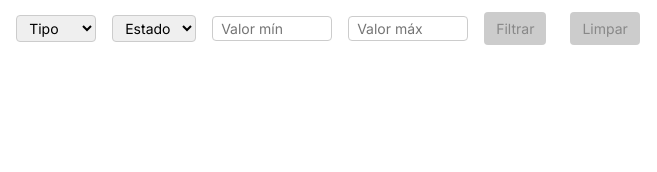
Scenario: DespesasFilters › limpa todos os campos ao clicar em Limpar
This screenshot has width=657, height=172.
Type "200" into the number field with placeholder "Valor mín". click: point(272, 28)
box: [212,16,332,41]
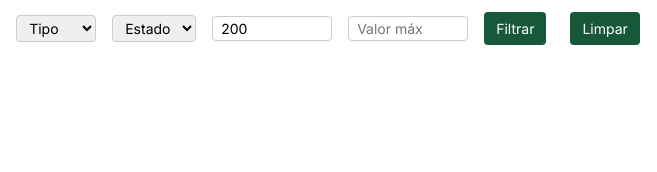
Select "Tipo 1" in the 1st dropdown showing "Tipo". click: point(56, 28)
box: [16,15,96,42]
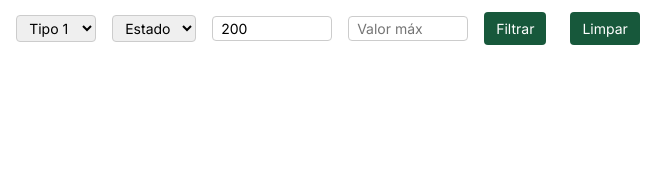
Select "SP" in the 2nd dropdown showing "Estado". click: point(154, 28)
box: [112,15,196,42]
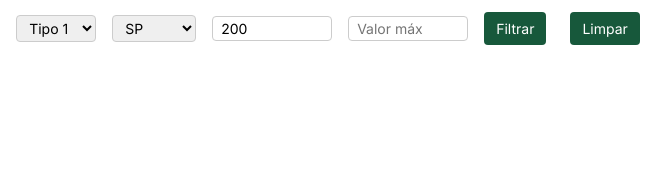
Click the button "Limpar". click: point(605, 28)
box: [570,12,640,45]
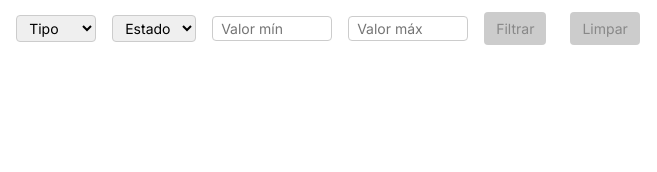
Expected: the number field with placeholder "Valor máx" is empty, [348,16,468,41]
Expected: the number field with placeholder "Valor mín" is empty, [212,16,332,41]
